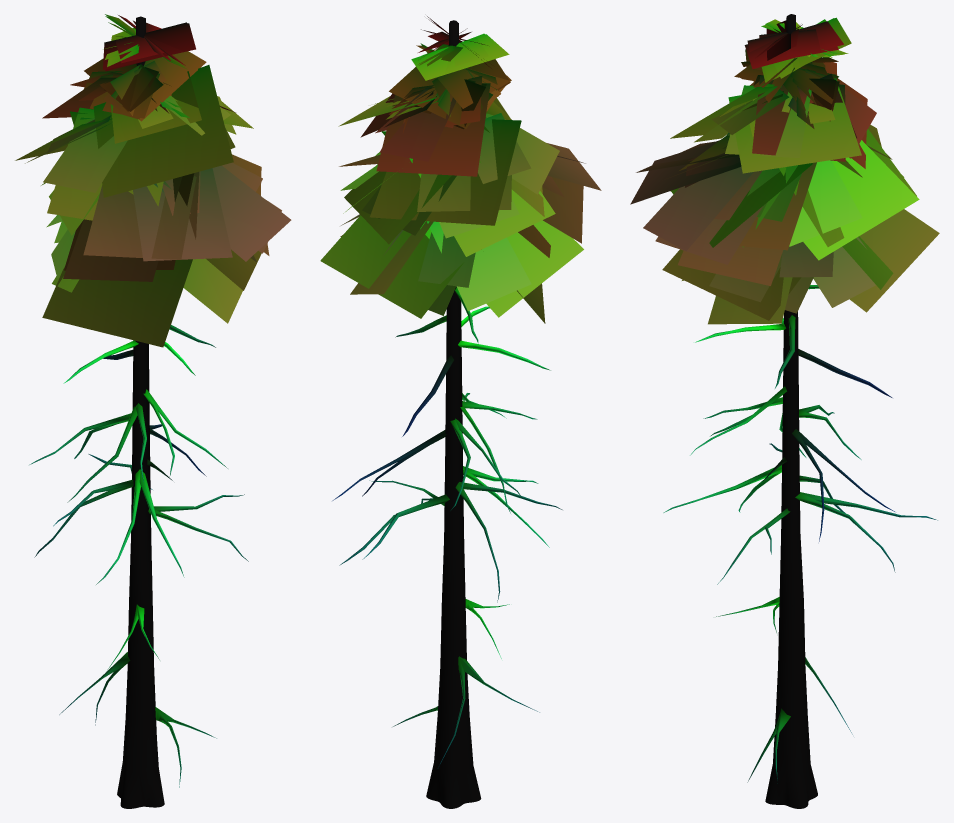
The model's file is M_Pine_4_10.fbx.
3 renders of one model, left to right at view 1: azimuth 30°, elevation 25°; view 2: azimuth 150°, elevation 25°; view 3: azimuth 270°, elevation 25°, orthographic.
Parts seen in each view (by area): view 1: Tree_10; view 2: Tree_10; view 3: Tree_10.
Boxes of the visible parts, x1=… form: Tree_10: x1=15, y1=14, x2=291, y2=808; Tree_10: x1=320, y1=16, x2=601, y2=808; Tree_10: x1=630, y1=14, x2=939, y2=808.
Size of the model in its own units: 664 by 2227 by 798.
